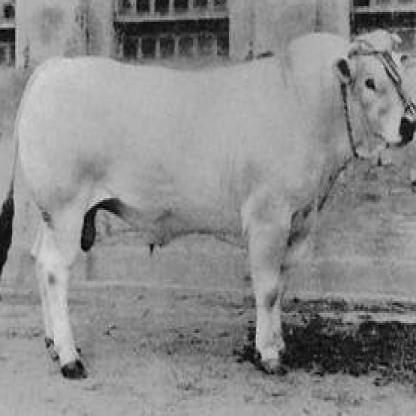cow: (1, 28, 416, 380)
